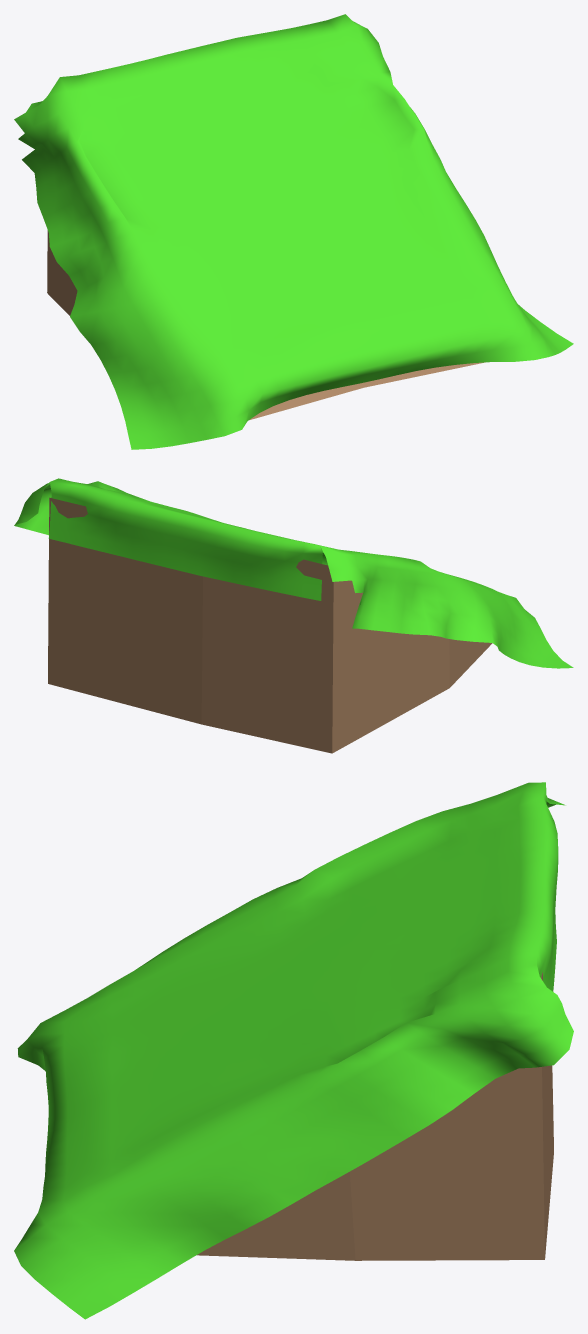
File: SmallRamp01.fbx
3 views of the same model, one above another, from view 1: azimuth 30°, elevation 25°; view 2: azimuth 150°, elevation 25°; view 3: azimuth 270°, elevation 25° (orthographic). The views are drawn at different scales.
Parts seen in each view (by area): view 1: Plane; view 2: Plane; view 3: Plane.
Part boxes in pixels (x1=…): Plane: x1=14, y1=14, x2=573, y2=449; Plane: x1=14, y1=478, x2=573, y2=753; Plane: x1=14, y1=782, x2=573, y2=1319.
Bounding box in the file's own units: 449 × 221 × 363.
